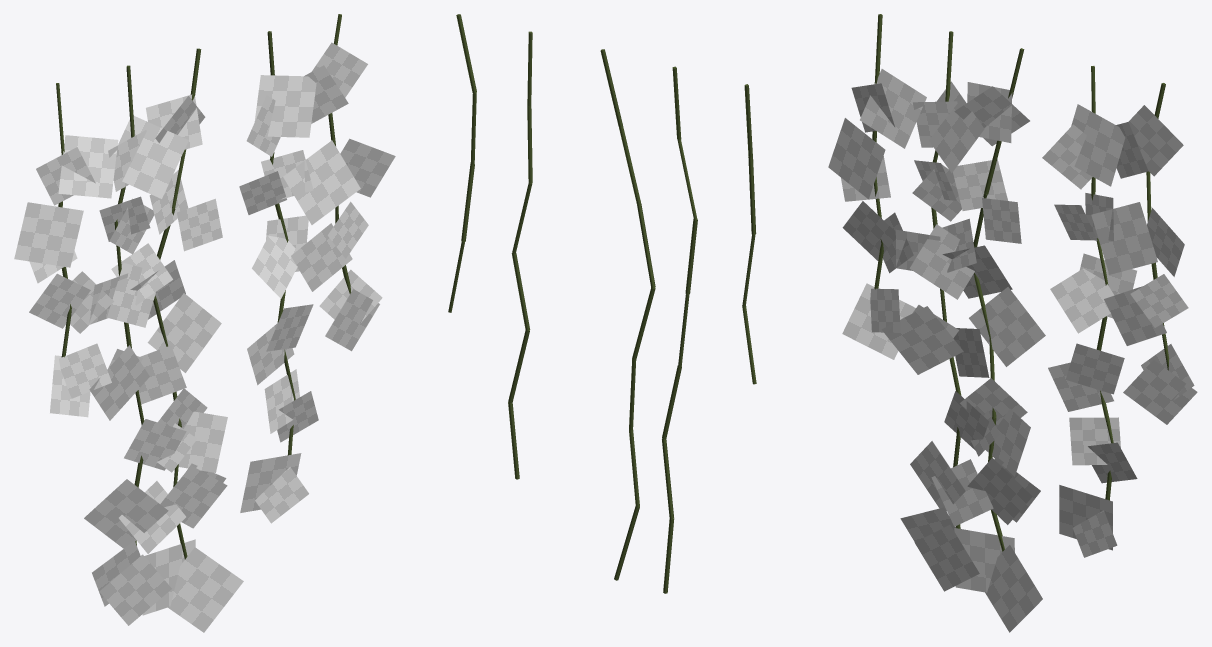
Rendered from ivyWall.glb.
3 views of the same model, side by side, from view 1: azimuth 30°, elevation 25°; view 2: azimuth 150°, elevation 25°; view 3: azimuth 330°, elevation 25° (orthographic).
Parts seen in each view (by area): view 1: dyn_color_tint, ivyWall; view 2: ivyWall; view 3: dyn_color_tint, ivyWall.
Boxes of the visible parts, left/top/right/bottom form: dyn_color_tint: left=14, top=42, right=395, bottom=632; ivyWall: left=56, top=14, right=350, bottom=559; ivyWall: left=448, top=14, right=756, bottom=593; dyn_color_tint: left=828, top=69, right=1197, bottom=632; ivyWall: left=872, top=14, right=1169, bottom=551.
Bounding box in the file's own units: 1.67 × 2.5 × 0.16.
2 materials, 1 textured.
